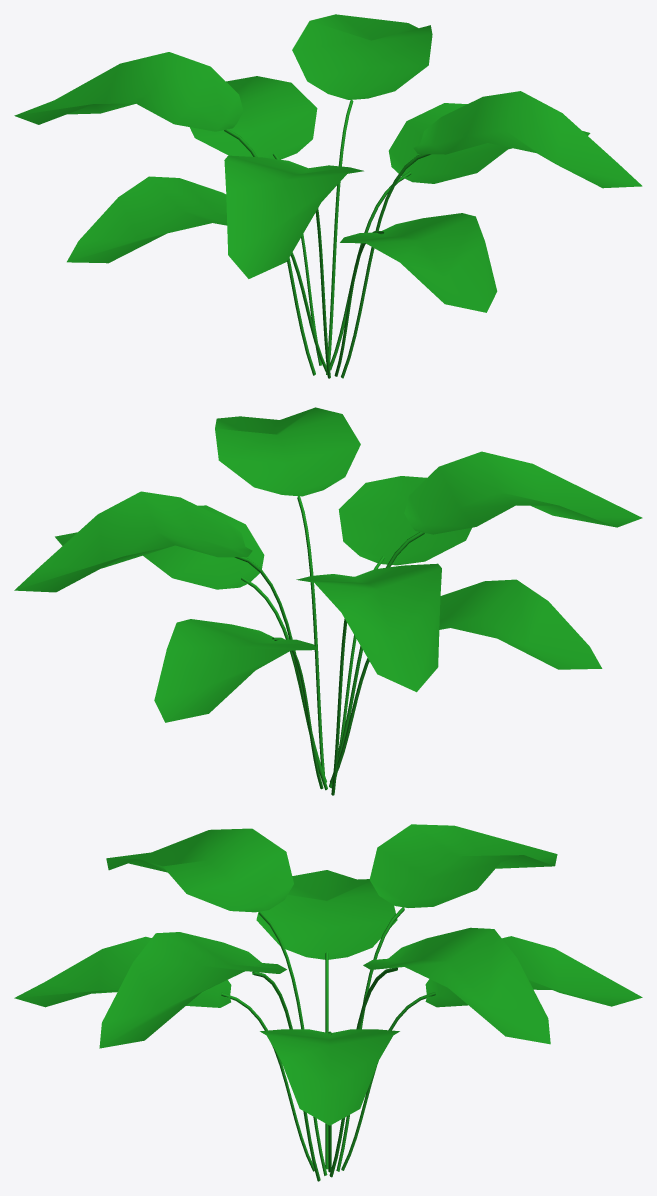
File: Fern1.fbx
The picture shows the model from 3 angles, top to bottom: view 1: azimuth 30°, elevation 25°; view 2: azimuth 150°, elevation 25°; view 3: azimuth 270°, elevation 25°; orthographic projection. The views are drawn at different scales.
Parts seen in each view (by area): view 1: Plane.005, Plane.004, Plane.006, Plane.007, Plane.002, Plane.001, Plane, Plane.003, Line.008, Line.007, Line.006, Line.005 (+2 smaller); view 2: Plane.005, Plane.004, Plane.007, Plane.006, Plane, Plane.001, Plane.002, Plane.003, Line.007, Line.008, Line.005, Line.006 (+1 smaller); view 3: Plane.004, Plane.006, Plane.007, Plane.005, Plane.001, Plane.003, Plane, Plane.002, Line.006, Line.003, Line.005, Line.002 (+2 smaller).
Boxes of the visible parts, <box> form: Plane.005: <box>224,155,363,278</box>; Plane.004: <box>14,52,243,131</box>; Plane.006: <box>413,91,642,188</box>; Plane.007: <box>292,14,432,99</box>; Plane.002: <box>340,213,497,312</box>; Plane.001: <box>67,176,227,263</box>; Plane: <box>190,76,317,159</box>; Plane.003: <box>388,103,590,183</box>; Line.008: <box>326,100,353,375</box>; Line.007: <box>341,154,430,378</box>; Line.006: <box>315,208,330,378</box>; Line.005: <box>224,129,315,375</box>; Plane.005: <box>404,451,642,534</box>; Plane.004: <box>296,563,441,692</box>; Plane.007: <box>14,491,252,592</box>; Plane.006: <box>215,407,360,496</box>; Plane: <box>154,619,317,722</box>; Plane.001: <box>439,579,602,669</box>; Plane.002: <box>338,476,471,565</box>; Plane.003: <box>55,505,264,589</box>; Line.007: <box>297,496,324,774</box>; Line.008: <box>234,557,327,790</box>; Line.005: <box>331,618,346,795</box>; Line.006: <box>329,532,424,788</box>; Plane.004: <box>369,824,557,907</box>; Plane.006: <box>99,932,286,1048</box>; Plane.007: <box>363,927,550,1044</box>; Plane.005: <box>106,828,293,912</box>; Plane.001: <box>256,870,397,959</box>; Plane.003: <box>260,1029,399,1125</box>; Plane: <box>425,936,642,1007</box>; Plane.002: <box>14,936,231,1007</box>; Line.006: <box>259,911,327,1175</box>; Line.003: <box>221,992,314,1171</box>; Line.005: <box>336,907,404,1171</box>; Line.002: <box>341,992,435,1170</box>.
Bounding box in the file's own units: 101 × 51.32 × 105.
